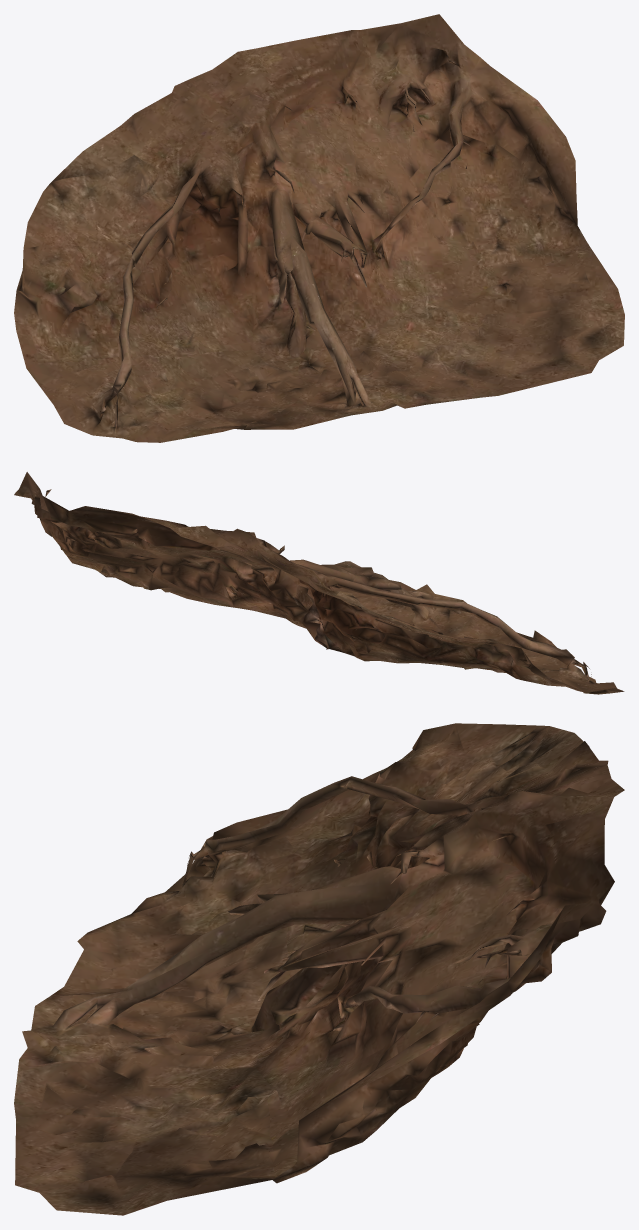
Rendered from root_cluster_01.glb.
The picture shows the model from 3 angles, top to bottom: view 1: azimuth 30°, elevation 25°; view 2: azimuth 150°, elevation 25°; view 3: azimuth 270°, elevation 25°; orthographic projection. The views are drawn at different scales.
Parts seen in each view (by area): view 1: root_cluster_01; view 2: root_cluster_01; view 3: root_cluster_01.
Part boxes in pixels (<box>): root_cluster_01: <box>14,14,624,442</box>; root_cluster_01: <box>14,472,624,694</box>; root_cluster_01: <box>14,723,624,1215</box>.
Bounding box in the file's own units: 4.12 × 1.51 × 2.68.
Materials: 1 (1 with a texture image).
